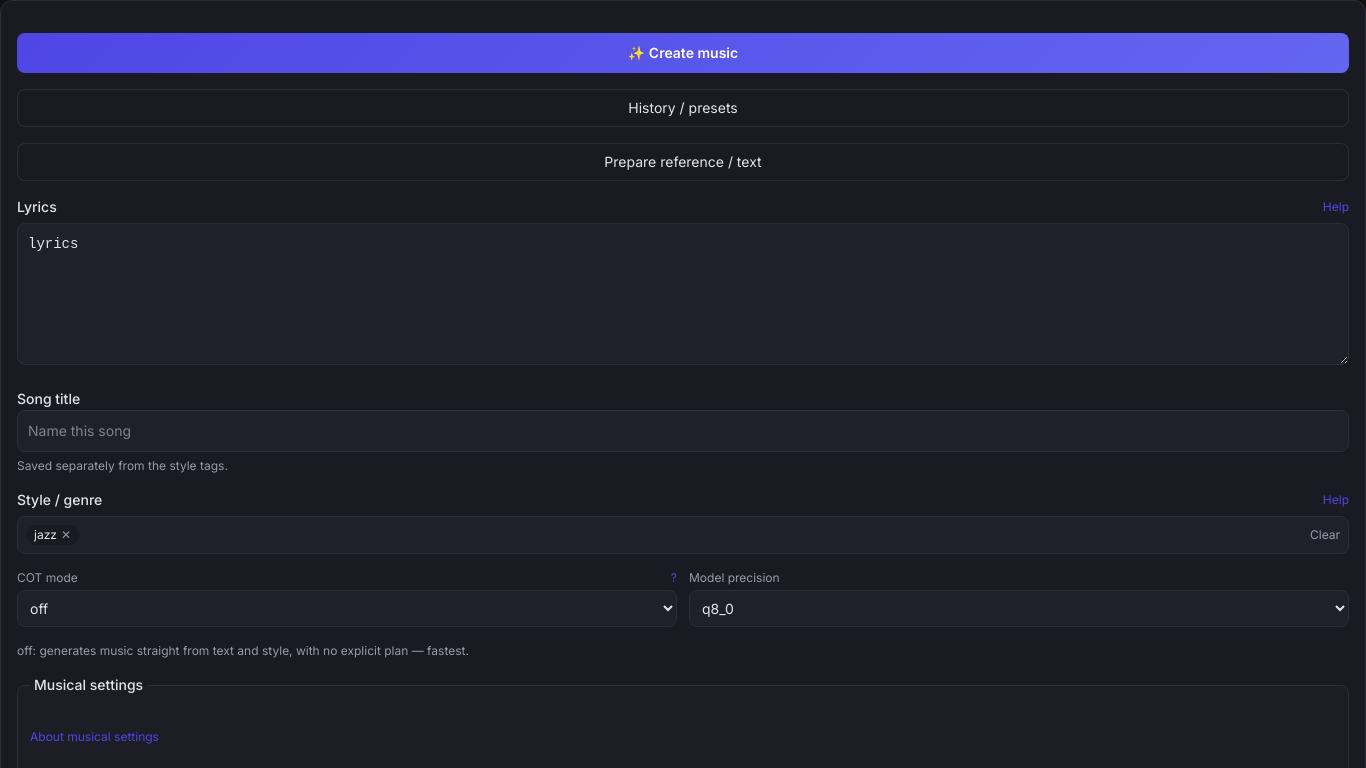
it: explains an unsupported runtime adapter format on direct submission without raw errors
The width and height of the screenshot is (1366, 768).
Click the button "✨ Create music": coordinates (683, 53) x1=17 y1=33 x2=1349 y2=73
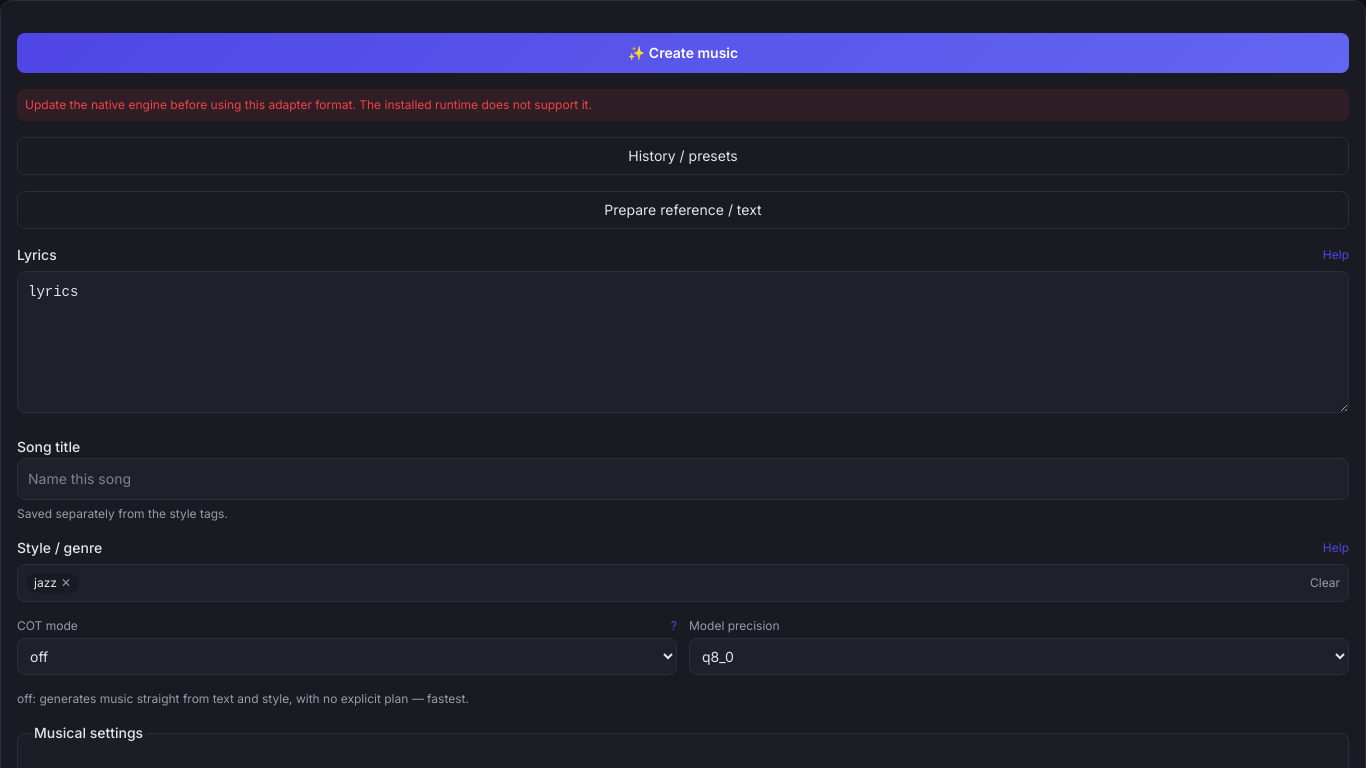
Now the text "Update the native engine before using this adapter format" is shown, box x1=25 y1=97 x2=592 y2=112
